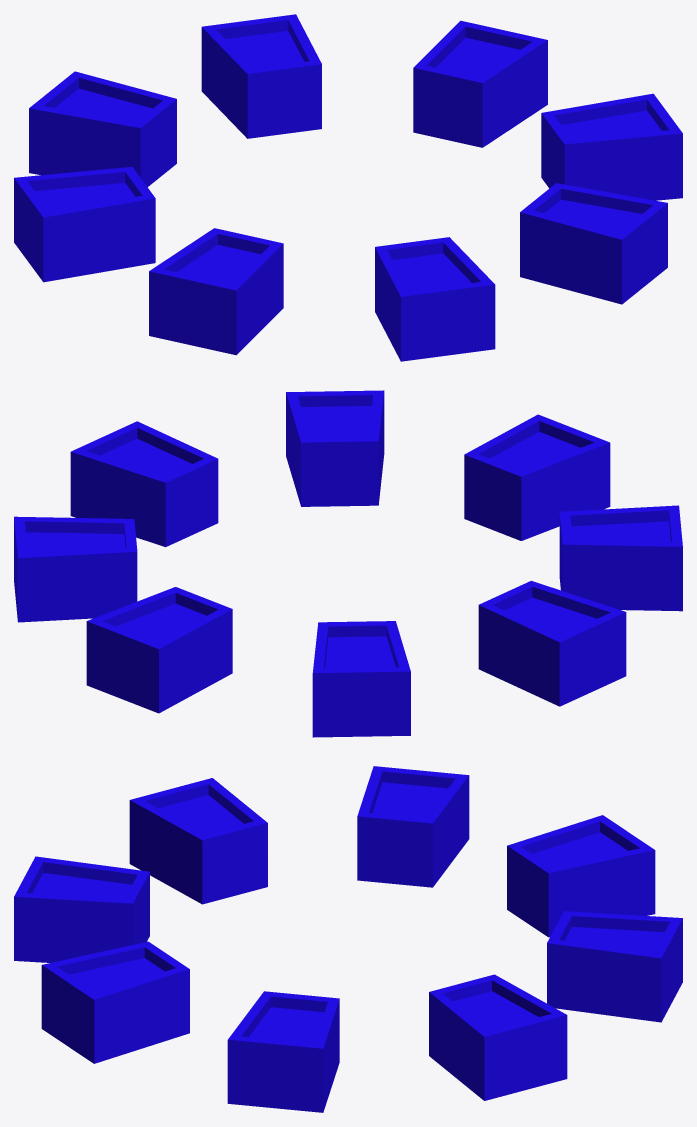
The model's file is 机关旋转体.fbx.
3 renders of one model, top to bottom at view 1: azimuth 30°, elevation 25°; view 2: azimuth 150°, elevation 25°; view 3: azimuth 270°, elevation 25°, orthographic.
Parts seen in each view (by area): view 1: Cylinder.001; view 2: Cylinder.001; view 3: Cylinder.001.
Boxes of the visible parts, bbox=[...] form: Cylinder.001: bbox=[14, 14, 682, 361]; Cylinder.001: bbox=[14, 390, 682, 737]; Cylinder.001: bbox=[14, 766, 682, 1112].
Size of the model in its own units: 582 by 61.59 by 582.
